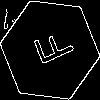F: (25, 25, 76, 71)
